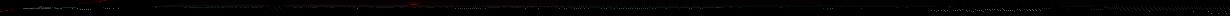Yellow cone: (407, 2, 422, 6), (946, 6, 953, 8), (728, 6, 734, 8), (39, 6, 43, 7)
